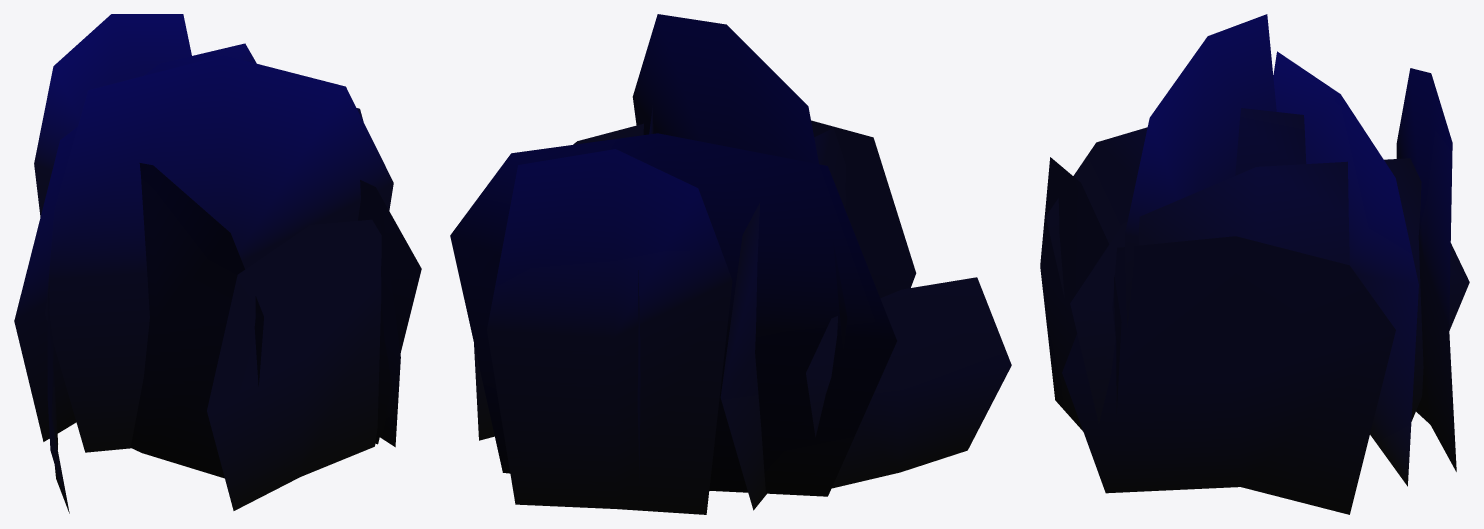
The model's file is SM_Grass_M_Patch_M_02.fbx.
The picture shows the model from 3 angles, left to right: view 1: azimuth 30°, elevation 25°; view 2: azimuth 150°, elevation 25°; view 3: azimuth 270°, elevation 25°; orthographic projection. The views are drawn at different scales.
Parts seen in each view (by area): view 1: SM_Grass_M_Patch_M_02; view 2: SM_Grass_M_Patch_M_02; view 3: SM_Grass_M_Patch_M_02.
Part boxes in pixels (x1,y1,x2,y2): SM_Grass_M_Patch_M_02: (14, 14, 421, 513); SM_Grass_M_Patch_M_02: (450, 14, 1011, 514); SM_Grass_M_Patch_M_02: (1040, 14, 1469, 514).
Size of the model in its own units: 144 by 125 by 127.
